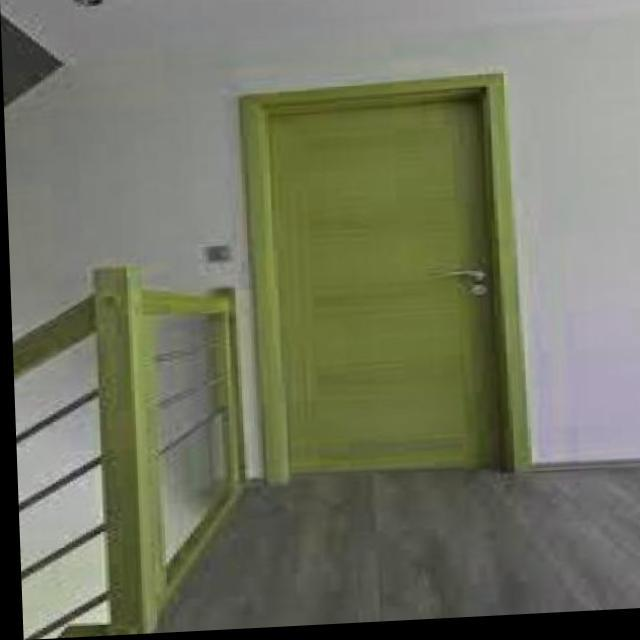door_handle: (428, 265, 492, 292)
